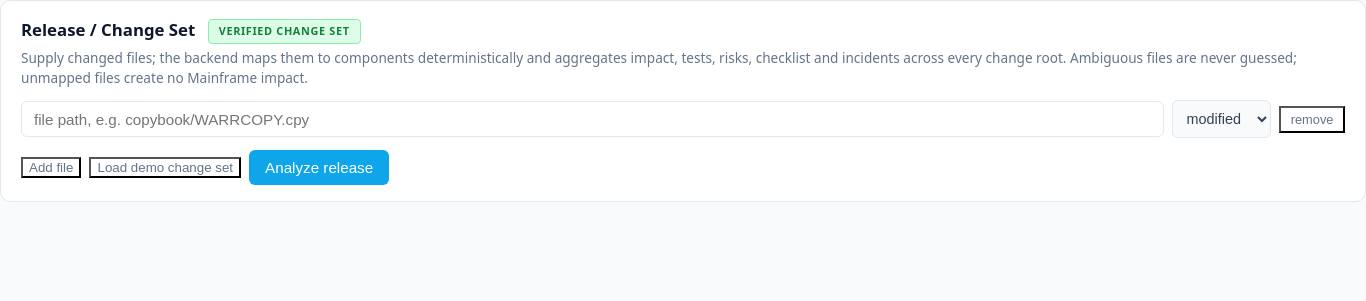
ChangeSetView › shows an API error without crashing
In the field named "Changed file path 1": (592, 119) x1=21 y1=101 x2=1164 y2=138, type "copybook/WARRCOPY.cpy"
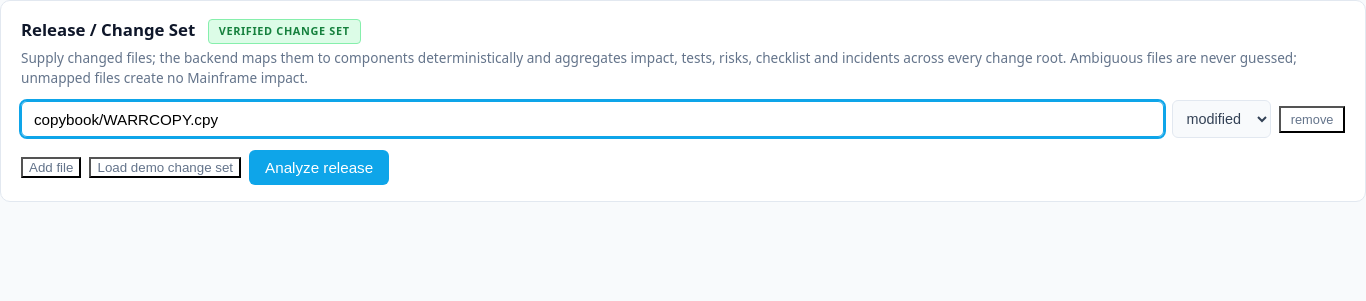
Click the button "Analyze release": (319, 167) x1=249 y1=150 x2=389 y2=185
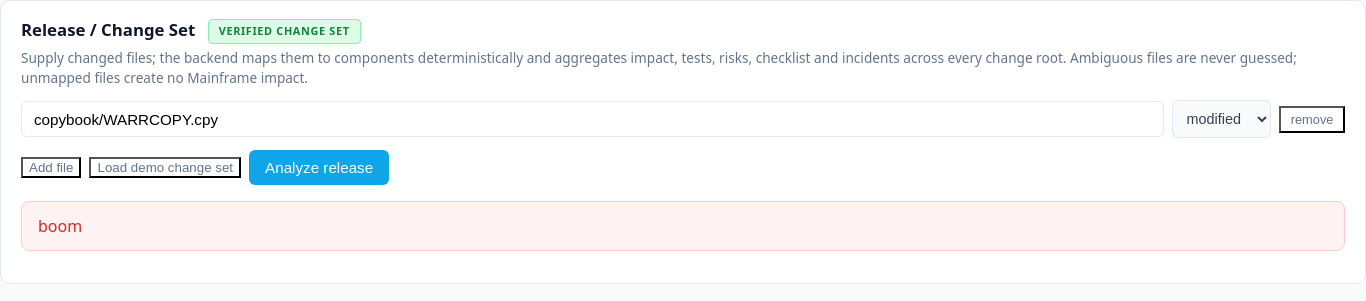
Result: the text "boom" is shown at x1=21 y1=200 x2=1345 y2=250
